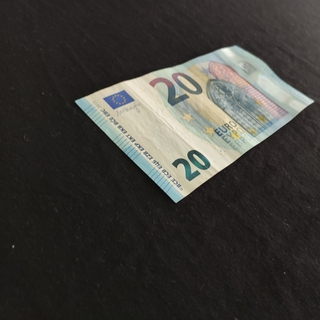20EUROFront: (74, 44, 315, 204)
